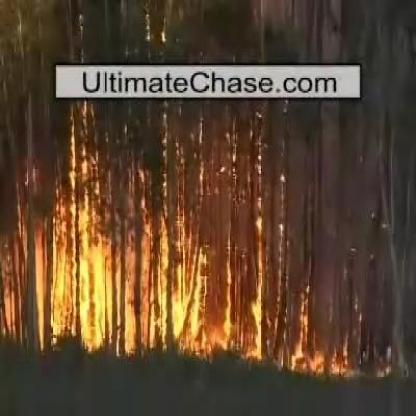foggia-v2-map80-epoch100 - v1 4323: (80, 250, 110, 346)
